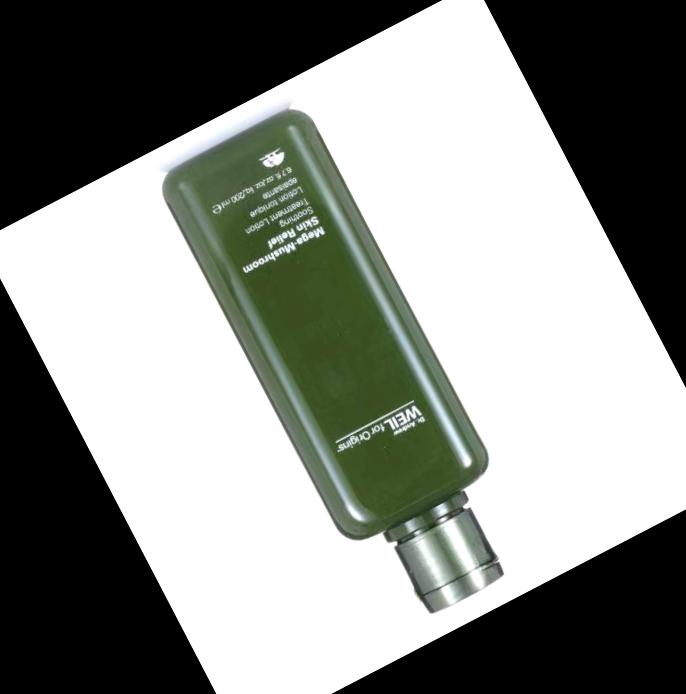cosmetic: (150, 95, 547, 642)
